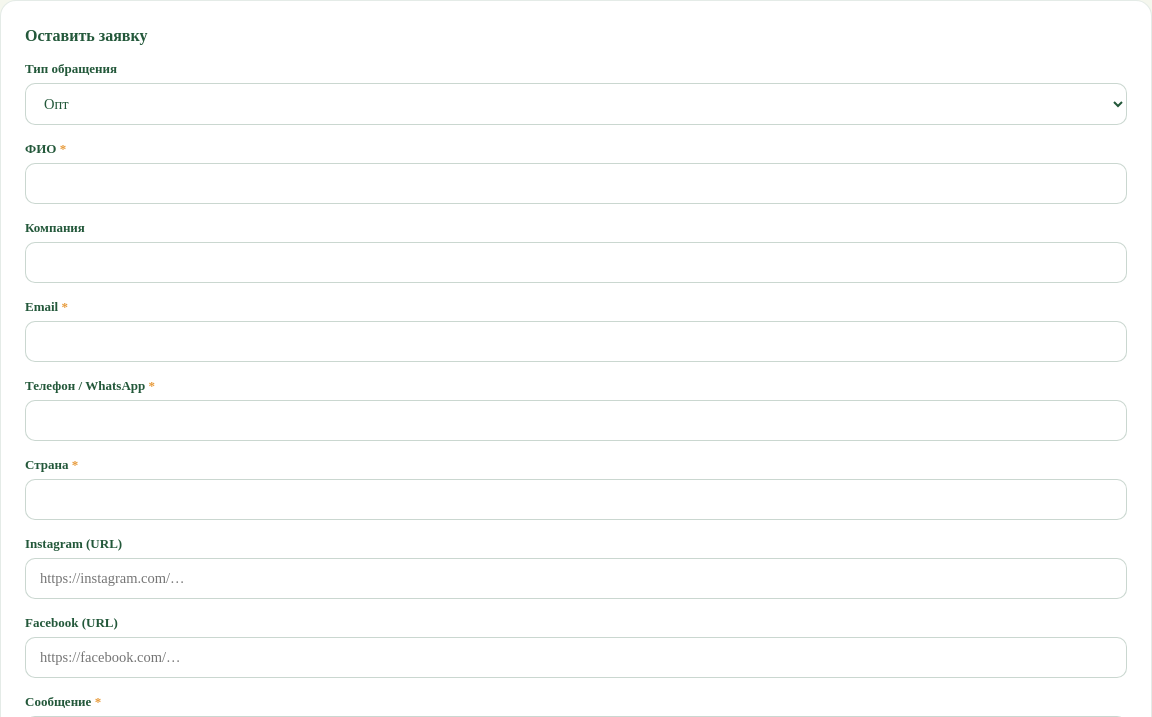
Contact form › shows one general message when the server names no field
In the field labelled "ФИО *": (576, 184) [25,163,1127,204], type "Тест"
In the field labelled "Email *": (576, 342) [25,321,1127,362], type "a@b.tj"
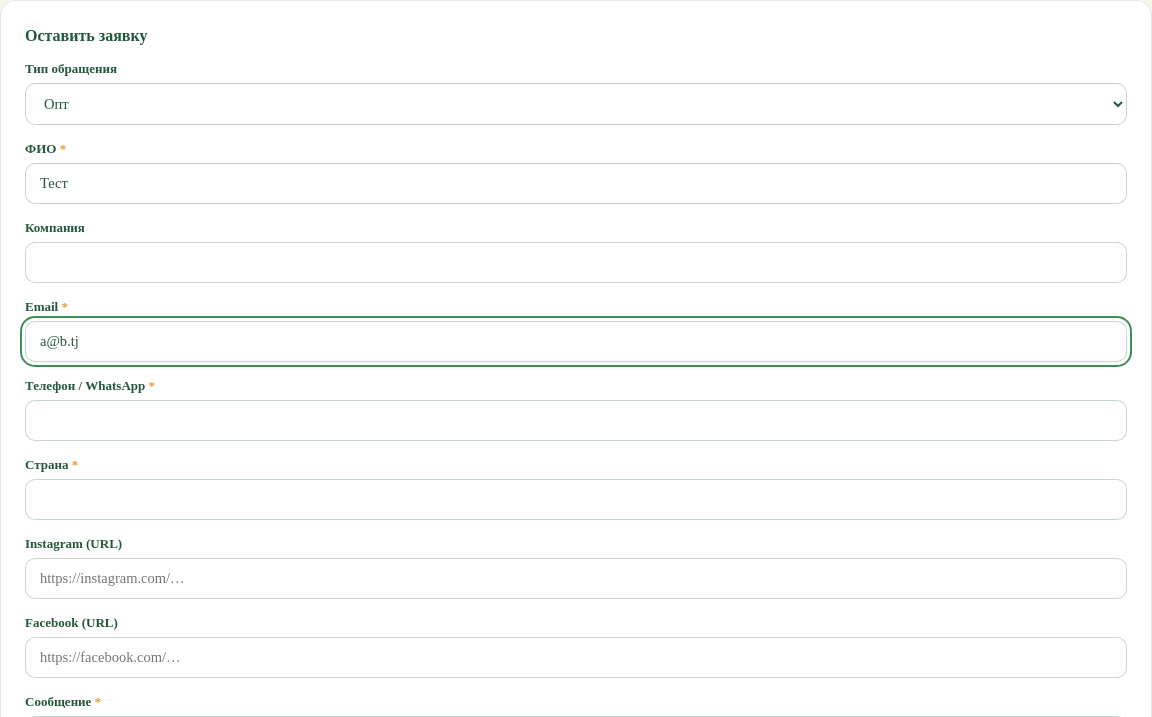
In the field labelled "Телефон / WhatsApp *": (576, 420) [25,400,1127,441], type "+992 000"
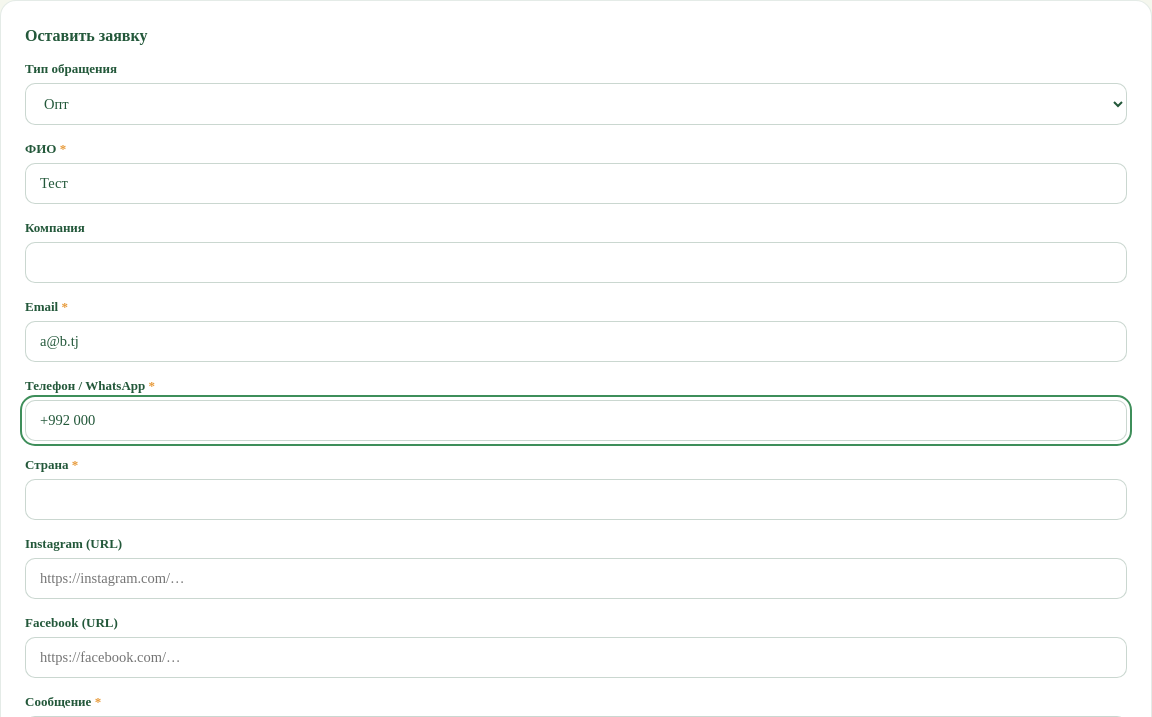
In the field labelled "Страна *": (576, 500) [25,479,1127,520], type "Таджикистан"
(page scrolled)
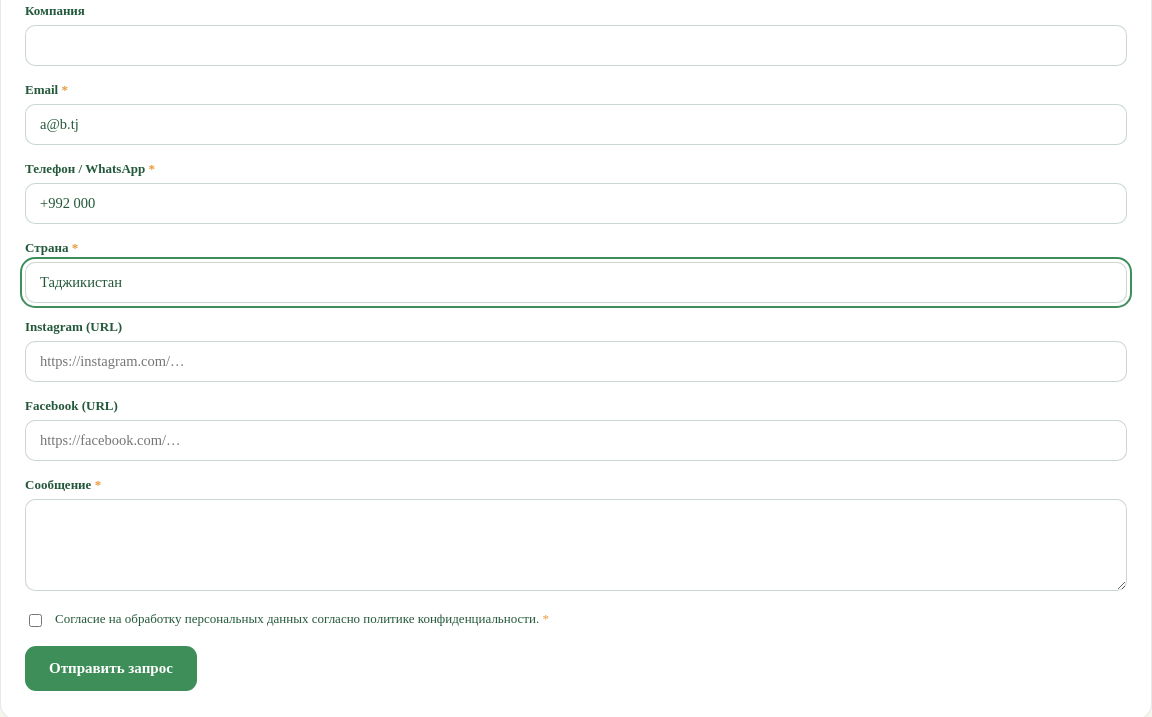
In the text box labelled "Сообщение *": (576, 545) [25,499,1127,591], type "Здравствуйте"
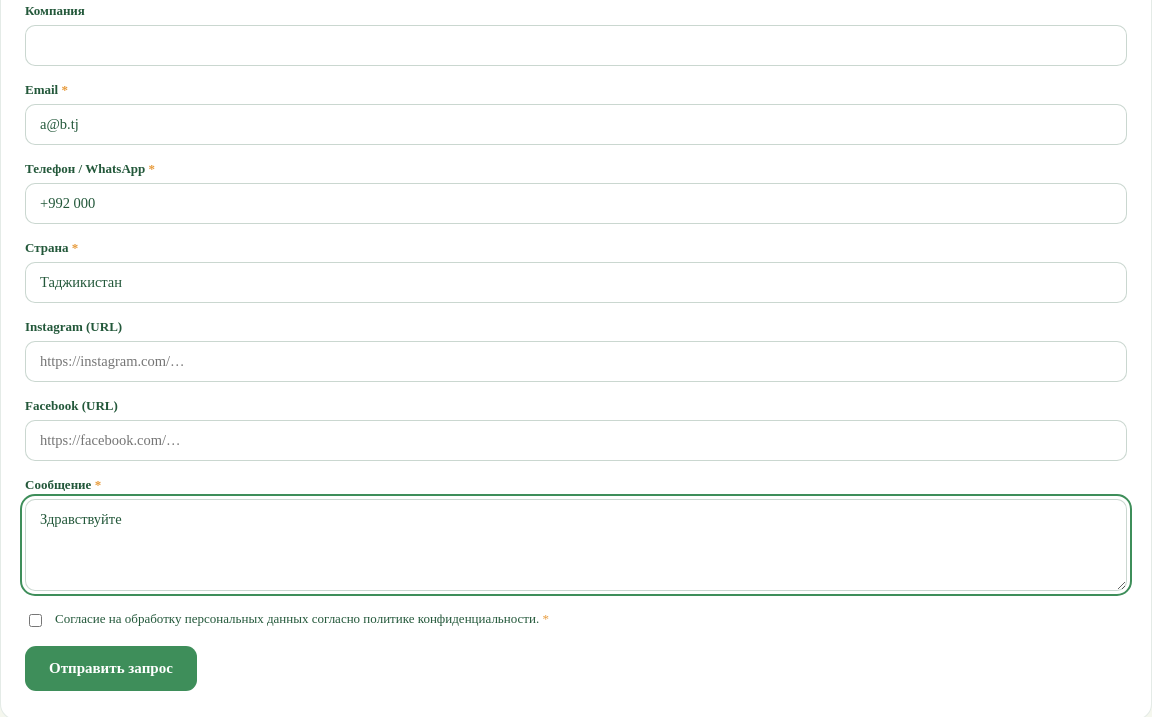
Click the checkbox: (36, 620) [29,614,42,627]
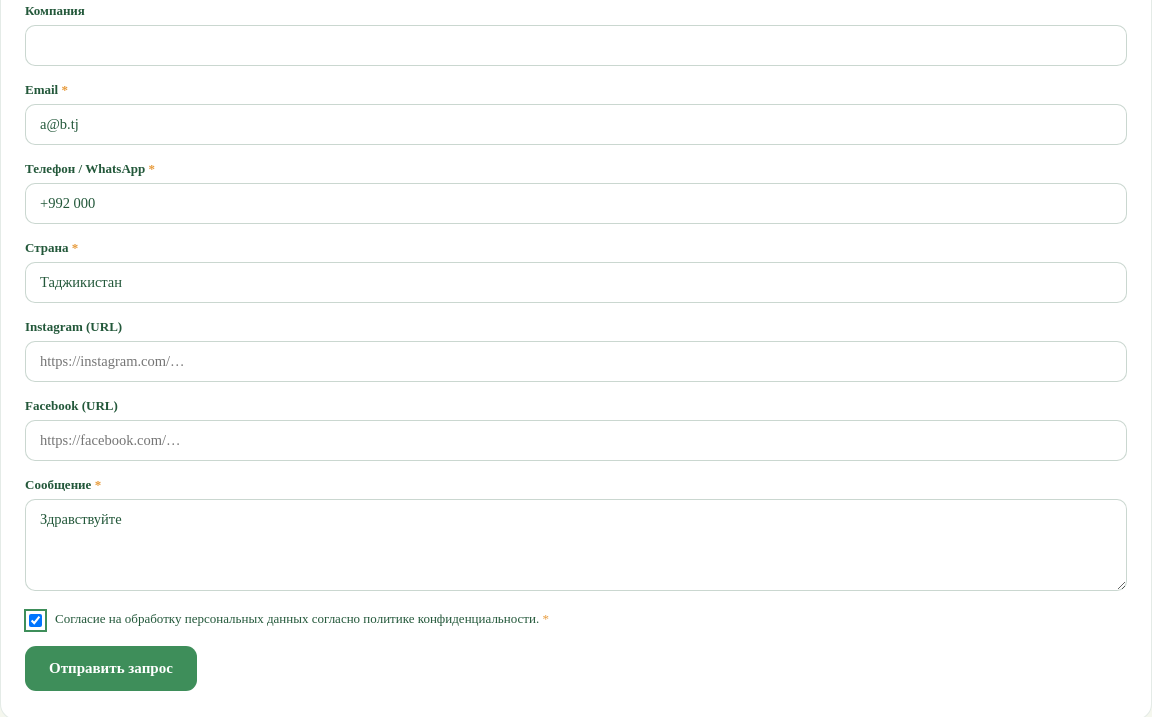
Click the button "Отправить запрос": (111, 668) [25,646,197,691]
(page scrolled)
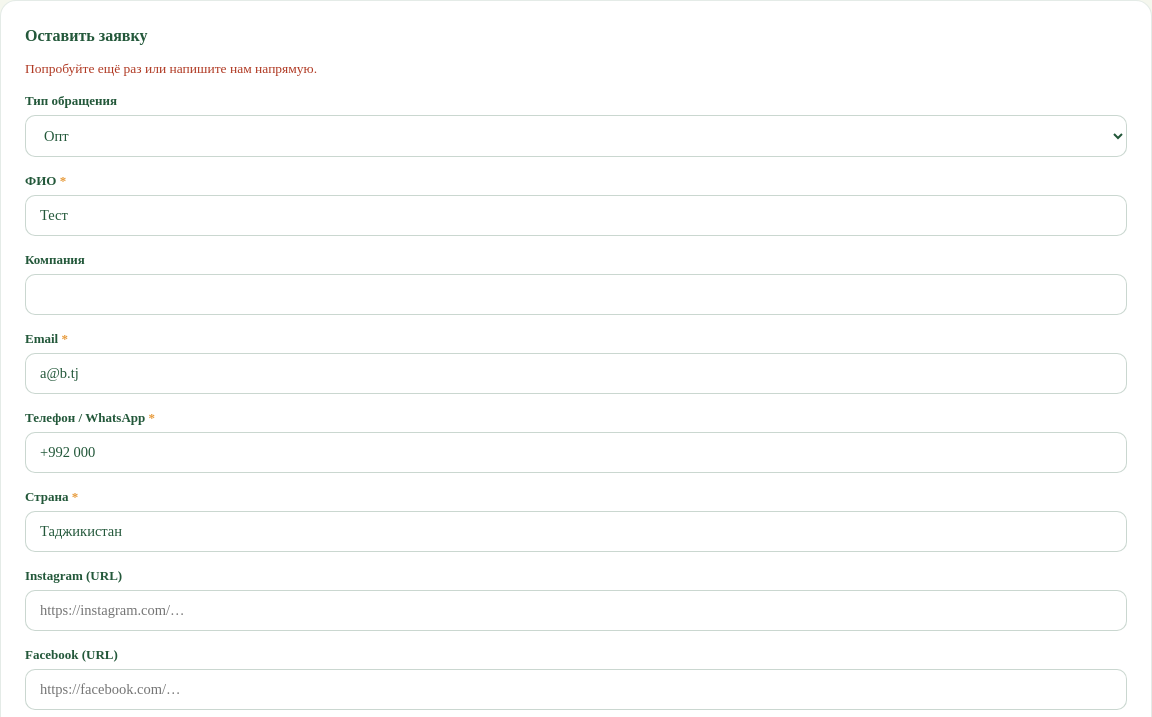
Expected: the message "Попробуйте ещё раз или напишите нам напрямую." is shown, [25,61,317,76]
